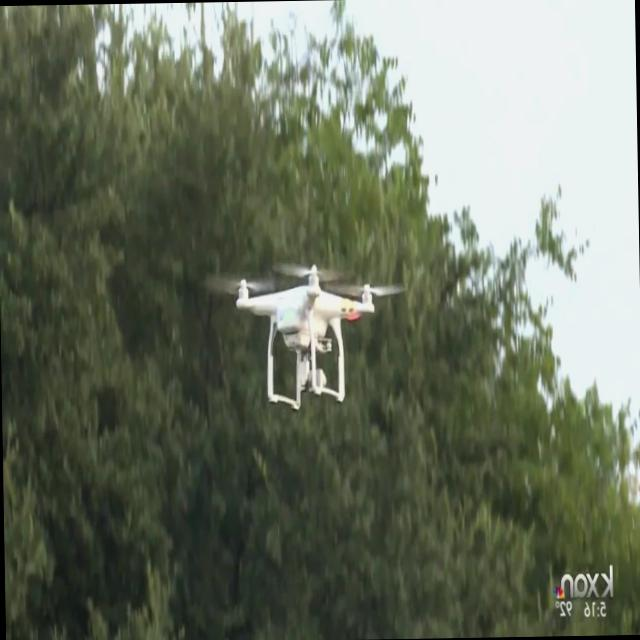drone: (221, 260, 395, 411)
